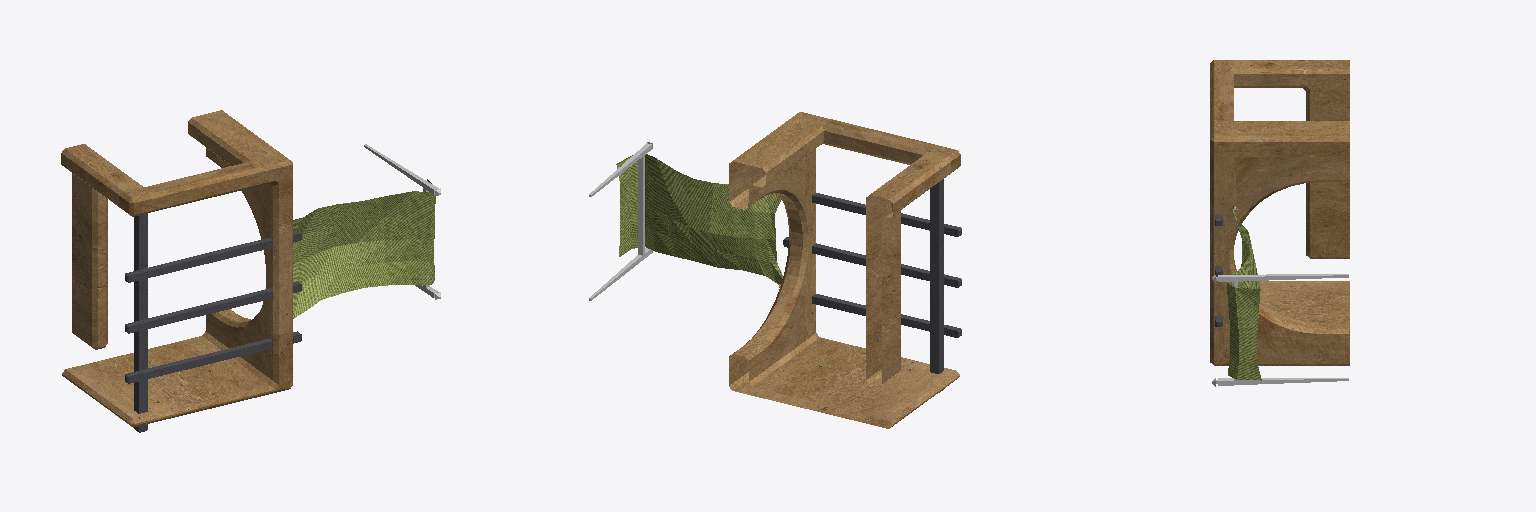
The picture shows the model from 3 angles: view 1: azimuth 30°, elevation 25°; view 2: azimuth 150°, elevation 25°; view 3: azimuth 270°, elevation 25°; orthographic projection.
Parts seen in each view (by area): view 1: house_2_arch2, pPlane1, house_2_logs, pCube3; view 2: house_2_arch2, pPlane1, house_2_logs, pCube3; view 3: house_2_arch2, pPlane1, pCube3.
Boxes of the visible parts, x1=… form: house_2_arch2: x1=61, y1=110, x2=292, y2=427; pPlane1: x1=293, y1=179, x2=435, y2=318; house_2_logs: x1=125, y1=213, x2=301, y2=432; pCube3: x1=364, y1=144, x2=440, y2=299; house_2_arch2: x1=729, y1=112, x2=960, y2=428; pPlane1: x1=616, y1=154, x2=782, y2=285; house_2_logs: x1=783, y1=179, x2=961, y2=392; pCube3: x1=589, y1=142, x2=652, y2=300; house_2_arch2: x1=1210, y1=60, x2=1349, y2=365; pPlane1: x1=1227, y1=206, x2=1261, y2=380; pCube3: x1=1212, y1=274, x2=1348, y2=386.
Size of the model in its own units: 17 by 12.1 by 6.36.
Materials: 6 (3 with a texture image).